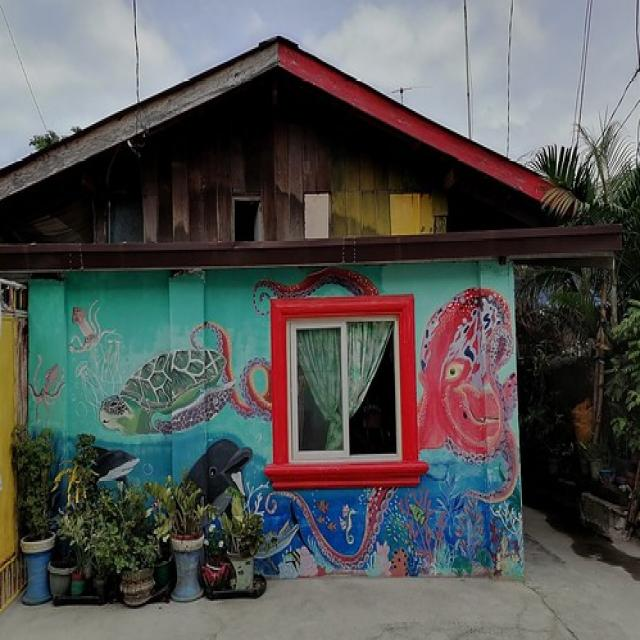Normal_building: (0, 34, 627, 599)
